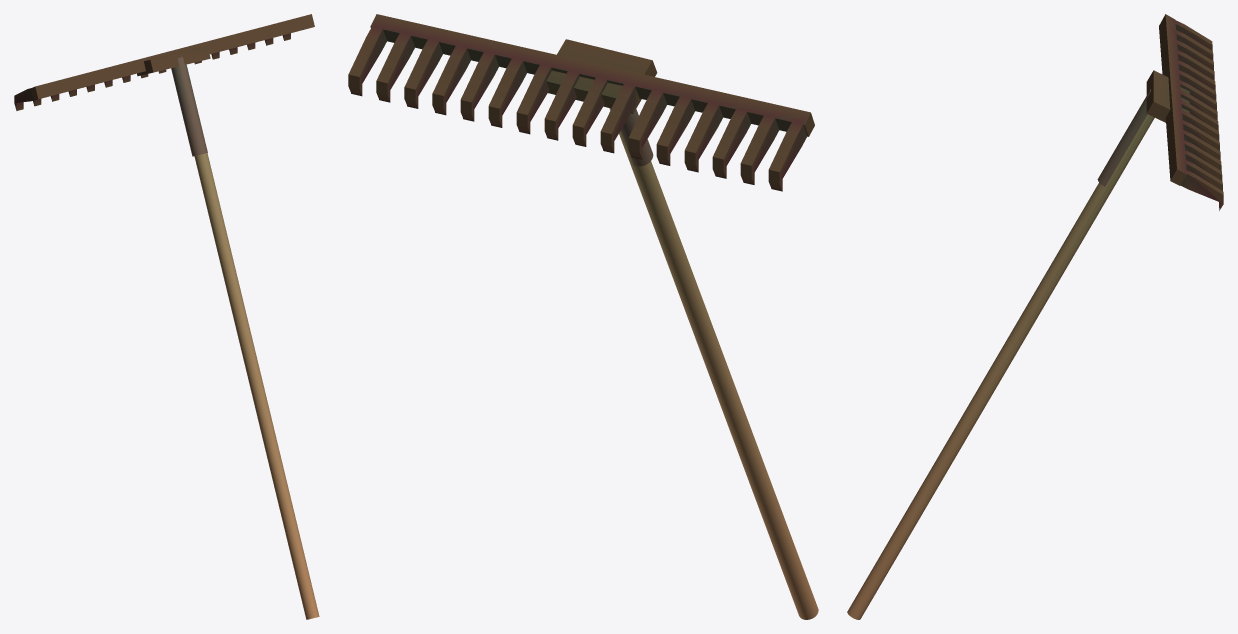
The picture shows the model from 3 angles, left to right: view 1: azimuth 30°, elevation 25°; view 2: azimuth 150°, elevation 25°; view 3: azimuth 270°, elevation 25°; orthographic projection. The views are drawn at different scales.
Visible parts, largest first — view 1: shaft, back, sleeve, saddle; view 2: back, shaft, saddle; view 3: shaft, back, saddle, sleeve.
Boxes of the visible parts, x1,y1,x2,y2 form: shaft: (194, 153, 319, 619); back: (14, 14, 314, 110); sleeve: (171, 57, 207, 156); saddle: (137, 46, 210, 76); back: (348, 14, 814, 191); shaft: (609, 108, 818, 619); saddle: (546, 39, 657, 113); shaft: (847, 114, 1154, 619); back: (1159, 14, 1223, 210); saddle: (1146, 70, 1189, 122); sleeve: (1097, 89, 1150, 186).
Size of the model in its own units: 0.9359 by 1.5 by 0.9588.
